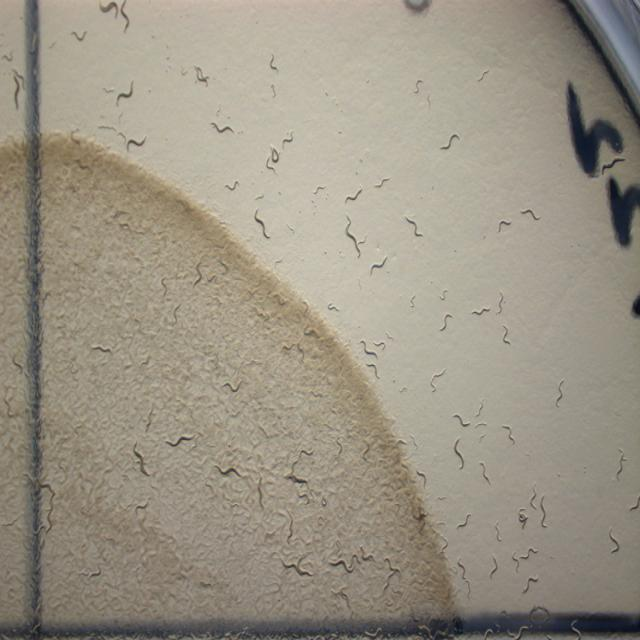filarid: (345, 215, 365, 256), (41, 484, 55, 533), (282, 556, 312, 576), (132, 442, 150, 475), (458, 557, 471, 598), (284, 472, 309, 491), (255, 210, 270, 239), (116, 80, 133, 104), (601, 157, 625, 174), (616, 447, 628, 480), (440, 133, 460, 150), (405, 217, 422, 237), (166, 435, 194, 447), (430, 369, 445, 391), (120, 0, 130, 32), (194, 65, 209, 86), (215, 465, 241, 477), (454, 437, 464, 468), (508, 626, 530, 640), (370, 256, 388, 273), (361, 340, 378, 358), (522, 576, 539, 594), (126, 136, 146, 151), (609, 527, 620, 553), (330, 559, 351, 572), (501, 425, 515, 444), (479, 462, 491, 484), (79, 566, 101, 578), (286, 509, 294, 541), (211, 122, 234, 133), (145, 404, 154, 432), (192, 262, 202, 287), (555, 379, 564, 406), (385, 557, 400, 573), (345, 189, 362, 203), (222, 380, 241, 392), (520, 547, 538, 559), (571, 619, 581, 640), (456, 514, 471, 528), (171, 304, 181, 325), (521, 209, 540, 220), (258, 474, 264, 508), (364, 627, 381, 639), (360, 547, 374, 561), (540, 495, 546, 527), (454, 414, 470, 426), (490, 554, 498, 578), (362, 437, 370, 461), (304, 327, 320, 339), (91, 344, 112, 353), (629, 494, 640, 511), (496, 290, 504, 313), (366, 364, 379, 378), (440, 314, 452, 329), (519, 509, 528, 528), (476, 68, 489, 81), (75, 158, 89, 170), (71, 30, 86, 41), (271, 145, 280, 163), (475, 399, 484, 417), (417, 470, 426, 488), (335, 437, 342, 460), (374, 178, 390, 188), (282, 132, 292, 148), (70, 129, 80, 145), (439, 534, 448, 551), (502, 325, 510, 344), (530, 484, 536, 509), (270, 53, 278, 71), (139, 354, 150, 367), (225, 180, 239, 190), (495, 522, 502, 542), (471, 307, 490, 314), (512, 551, 519, 570), (161, 277, 168, 296), (499, 220, 511, 231), (300, 492, 312, 503), (136, 500, 149, 510), (266, 157, 275, 171), (414, 78, 422, 93), (298, 342, 304, 361), (439, 289, 449, 300), (411, 435, 418, 448), (314, 185, 325, 193), (328, 302, 339, 310), (410, 294, 416, 308), (221, 262, 228, 274), (282, 344, 295, 350), (374, 342, 385, 348), (399, 385, 408, 392), (200, 582, 211, 587), (272, 83, 276, 96), (120, 224, 130, 229), (386, 332, 392, 339), (255, 195, 264, 199), (438, 523, 444, 526), (444, 320, 446, 323)
